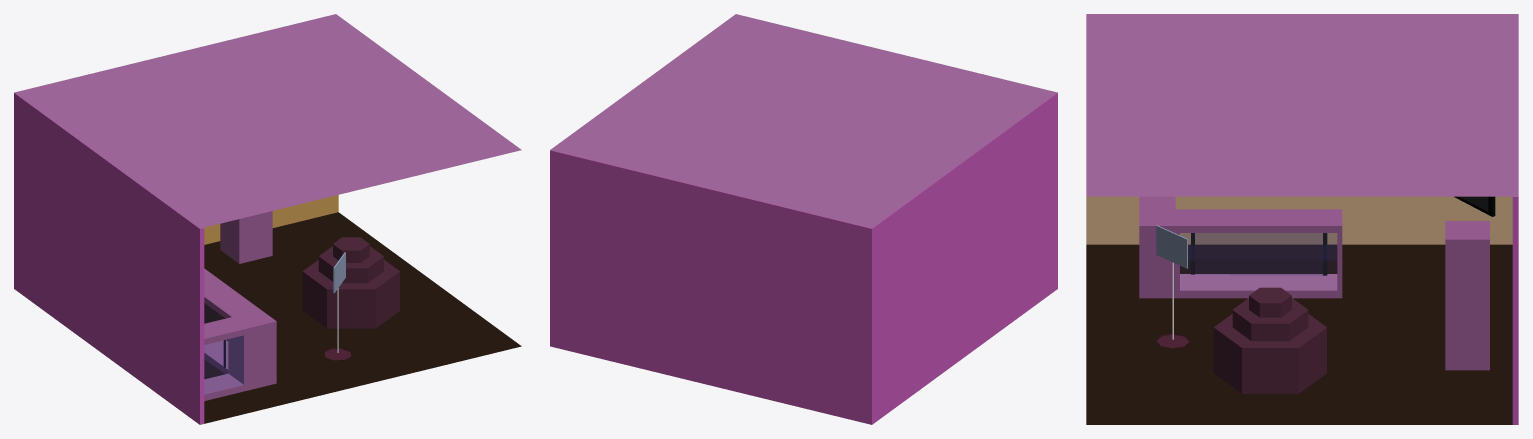
File: storefront_thechocolateseason.glb
3 views of the same model, side by side, from view 1: azimuth 30°, elevation 25°; view 2: azimuth 150°, elevation 25°; view 3: azimuth 270°, elevation 25° (orthographic). The views are drawn at different scales.
Visible parts, largest first — view 1: storefront_ceiling, storefront_walls, storefront_floor, storefront_displaycase-Lshaped1 (×2), storefront_displaycase-6face, human_block, storefront_sign; view 2: storefront_walls, storefront_ceiling; view 3: storefront_ceiling, storefront_floor, storefront_displaycase-Lshaped1 (×2), storefront_walls, storefront_displaycase-6face, human_block, storefront_sign, storefront_tv.
Boxes of the visible parts, bbox=[...] form: storefront_ceiling: bbox=[14, 14, 521, 228]; storefront_walls: bbox=[14, 93, 338, 424]; storefront_floor: bbox=[204, 212, 521, 423]; storefront_displaycase-Lshaped1 (×2): bbox=[204, 268, 276, 400]; storefront_displaycase-6face: bbox=[302, 237, 399, 328]; human_block: bbox=[220, 211, 272, 263]; storefront_sign: bbox=[324, 252, 351, 360]; storefront_walls: bbox=[550, 93, 1057, 424]; storefront_ceiling: bbox=[550, 14, 1057, 228]; storefront_ceiling: bbox=[1086, 14, 1518, 196]; storefront_floor: bbox=[1086, 244, 1512, 424]; storefront_displaycase-Lshaped1 (×2): bbox=[1139, 196, 1342, 298]; storefront_walls: bbox=[1086, 196, 1518, 424]; storefront_displaycase-6face: bbox=[1213, 287, 1326, 393]; human_block: bbox=[1445, 221, 1489, 370]; storefront_sign: bbox=[1156, 225, 1189, 348]; storefront_tv: bbox=[1454, 196, 1495, 216].
Size of the model in its own units: 6 by 3.5 by 6.
